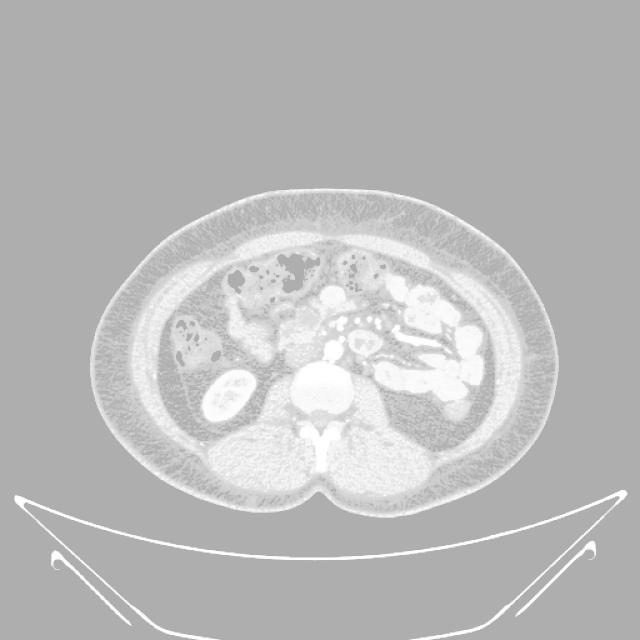NORMAL: (80, 198, 553, 508)
